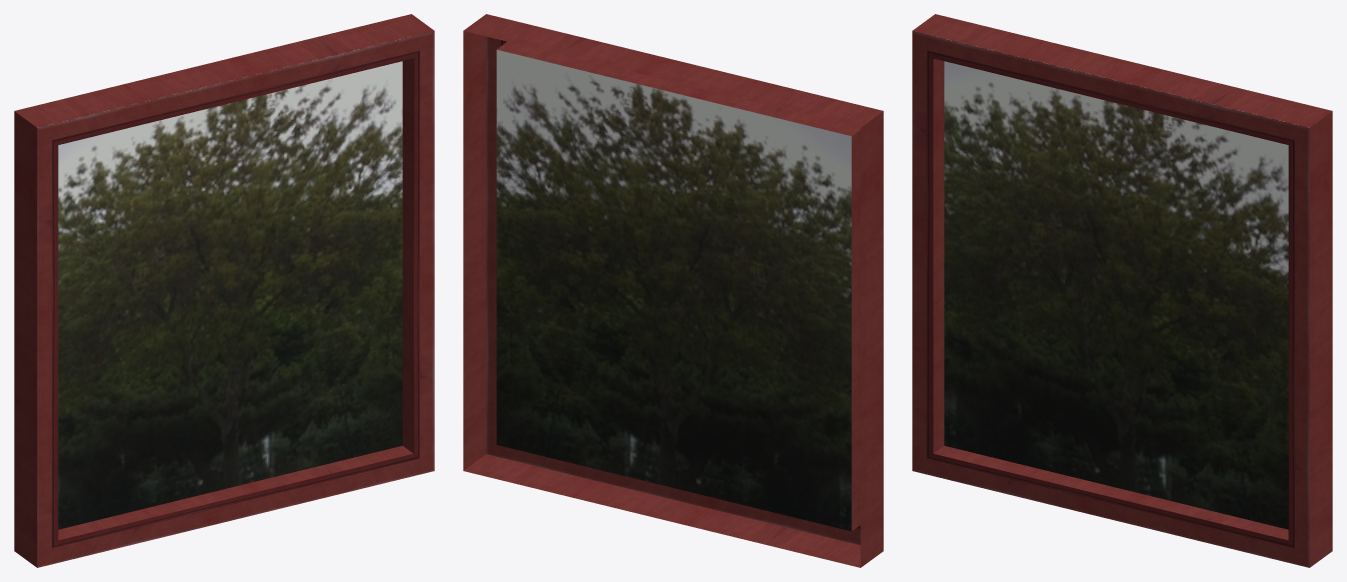
Rendered from Paint04.fbx.
3 renders of one model, left to right at view 1: azimuth 30°, elevation 25°; view 2: azimuth 150°, elevation 25°; view 3: azimuth 330°, elevation 25°, orthographic.
Visible parts, largest first — view 1: Mesh; view 2: Mesh; view 3: Mesh.
Part boxes in pixels (x1,y1,x2,y2): Mesh: (14, 14, 434, 567); Mesh: (463, 14, 883, 567); Mesh: (912, 14, 1332, 567).
Bounding box in the file's own units: 94.5 × 100 × 9.5.
